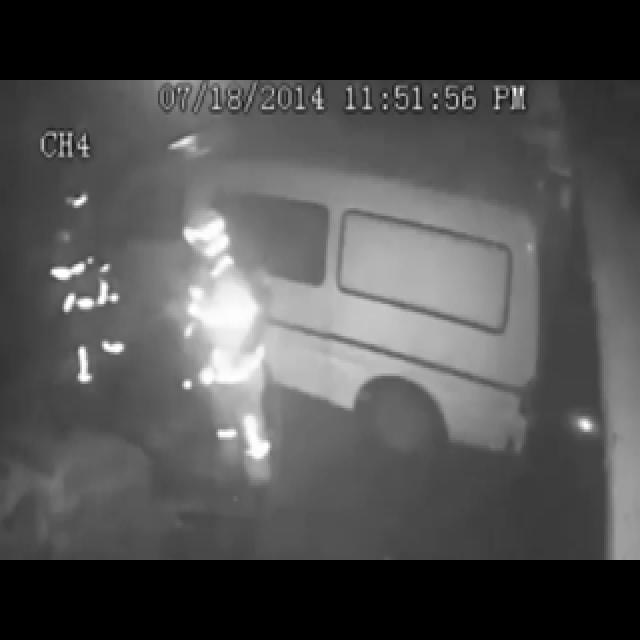arson: (12, 103, 290, 581)
